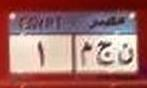1: (35, 37, 47, 67)
jeem: (95, 40, 114, 67)
meem: (79, 41, 92, 67)
noon: (116, 42, 134, 65)
